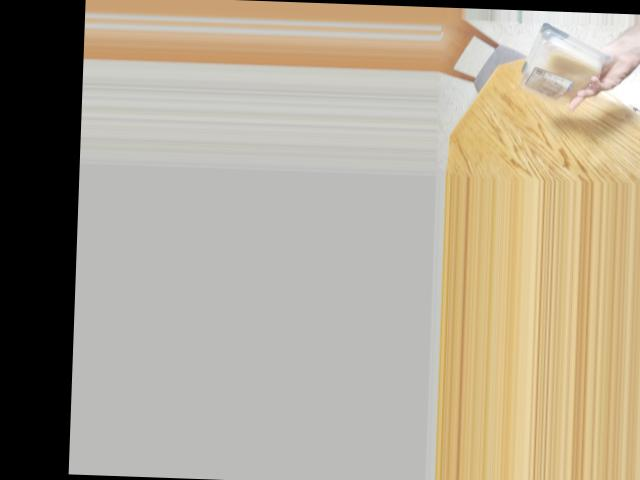cheese: (519, 34, 604, 96)
